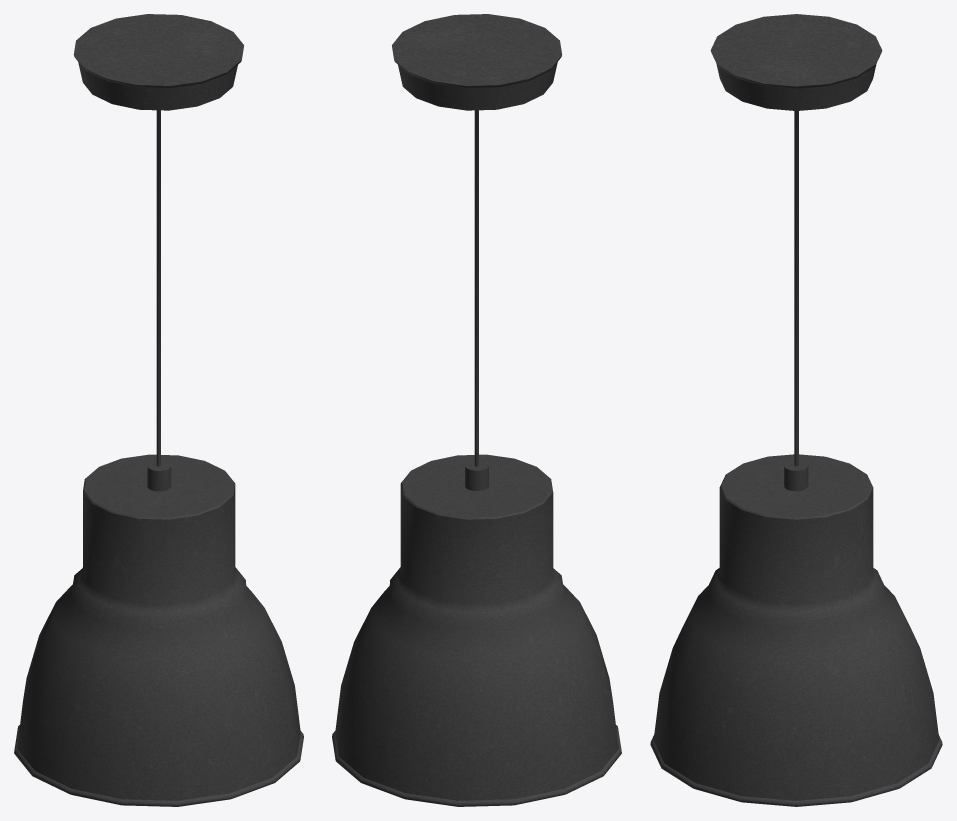
The model's file is lamproof.fbx.
3 renders of one model, left to right at view 1: azimuth 30°, elevation 25°; view 2: azimuth 150°, elevation 25°; view 3: azimuth 270°, elevation 25°, orthographic.
Parts seen in each view (by area): view 1: re_lamp_01_0; view 2: re_lamp_01_0; view 3: re_lamp_01_0.
Part boxes in pixels (x1,y1,x2,y2): re_lamp_01_0: [14, 14, 303, 806]; re_lamp_01_0: [332, 14, 621, 806]; re_lamp_01_0: [650, 14, 942, 806].
Size of the model in its own units: 45.83 by 120 by 45.83.
